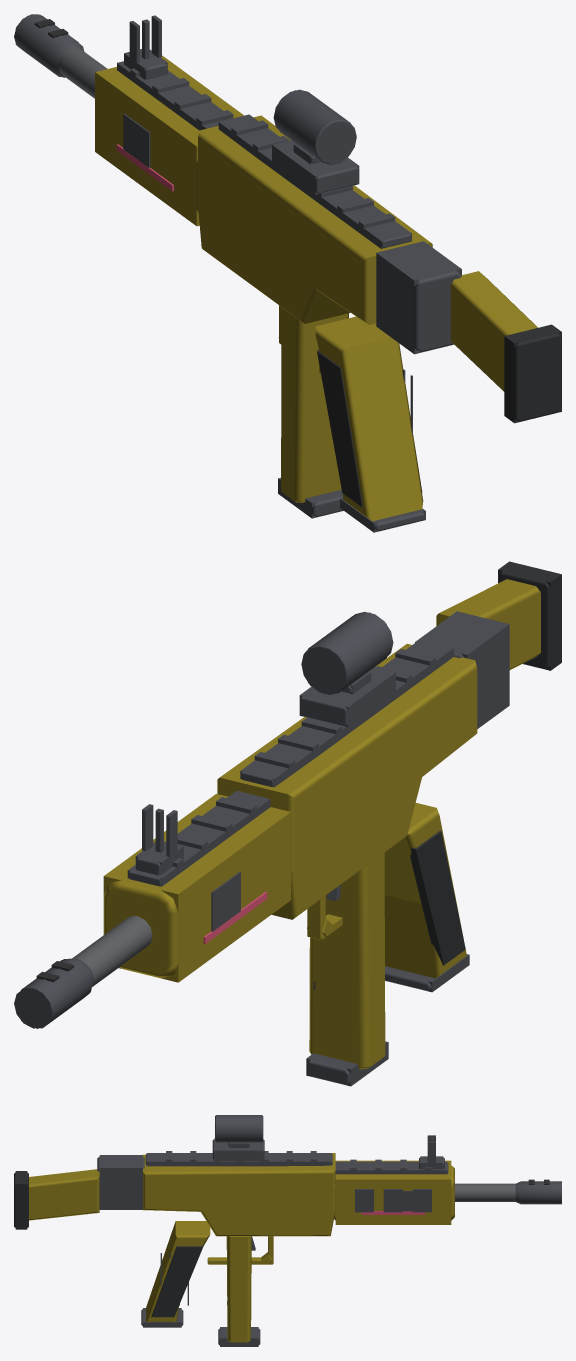
File: vector.glb
The picture shows the model from 3 angles, top to bottom: view 1: azimuth 30°, elevation 25°; view 2: azimuth 150°, elevation 25°; view 3: azimuth 270°, elevation 25°; orthographic projection. The views are drawn at different scales.
Parts seen in each view (by area): view 1: L0, L1; view 2: L0, L1; view 3: L0, L1.
Part boxes in pixels (x1,y1,x2,y2): L0: [14, 14, 561, 531]; L1: [15, 15, 561, 532]; L0: [14, 563, 561, 1085]; L1: [14, 561, 561, 1086]; L0: [14, 1115, 561, 1345]; L1: [15, 1116, 561, 1346].
Size of the model in its own units: 0.0582 by 0.258 by 0.5688.
